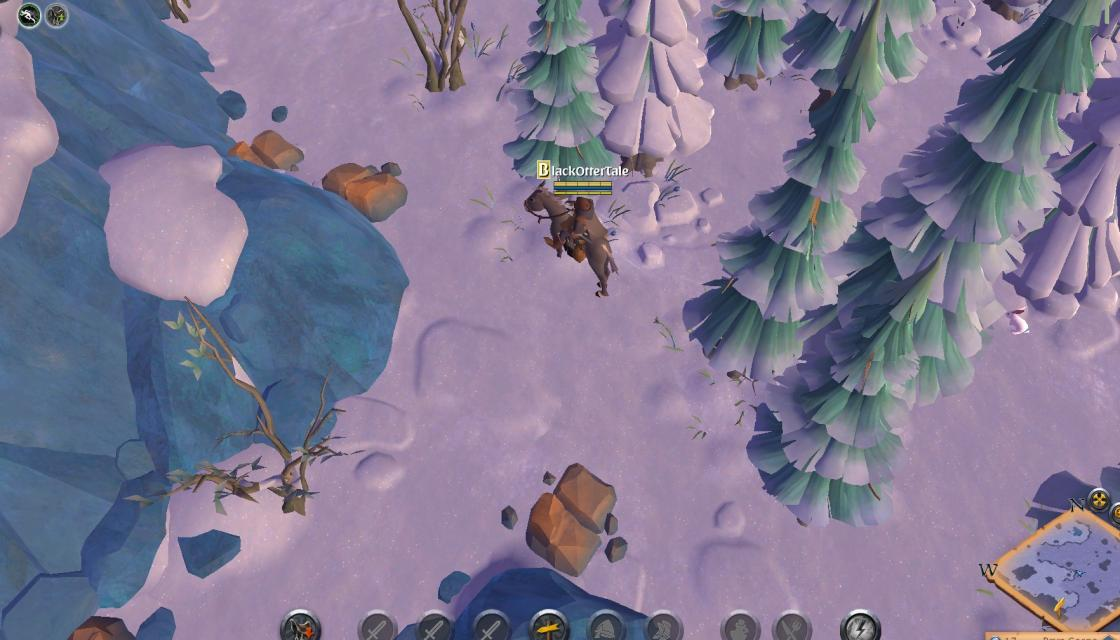limestone: (525, 456, 622, 576), (318, 154, 410, 222), (222, 126, 306, 176), (62, 605, 146, 640)
